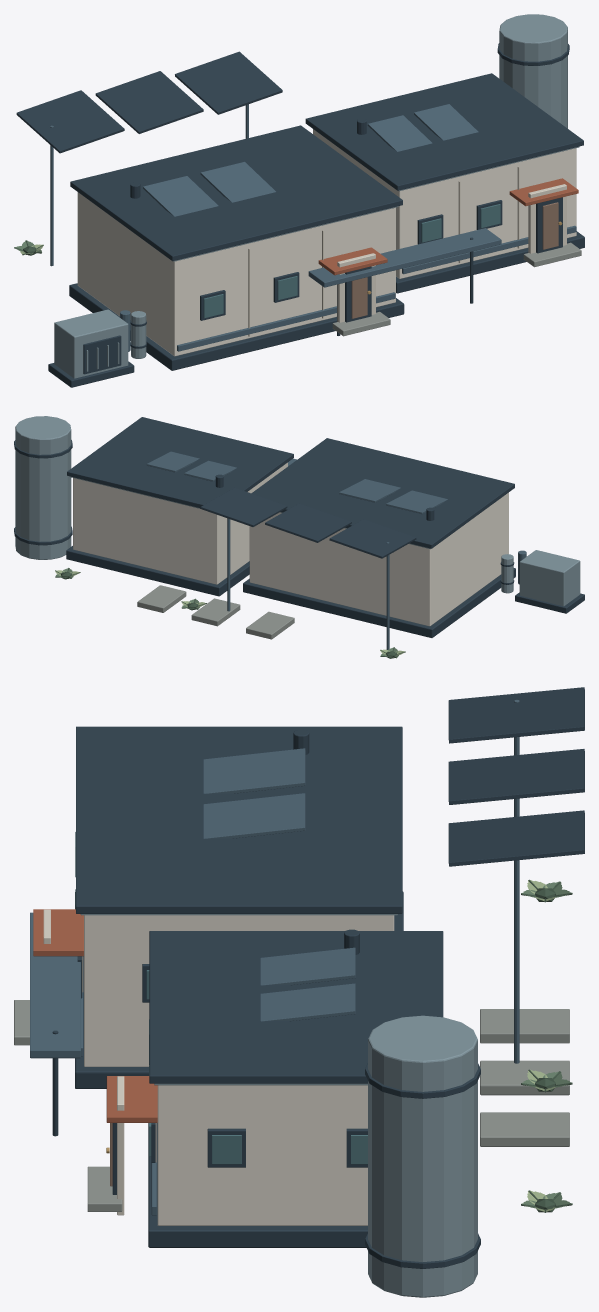
The model's file is homestead.glb.
3 views of the same model, one above another, from view 1: azimuth 30°, elevation 25°; view 2: azimuth 150°, elevation 25°; view 3: azimuth 270°, elevation 25° (orthographic). The views are drawn at different scales.
Parts seen in each view (by area): view 1: building.homestead.t1; view 2: building.homestead.t1; view 3: building.homestead.t1.
Boxes of the visible parts, x1=… form: building.homestead.t1: x1=14, y1=14, x2=584, y2=387; building.homestead.t1: x1=14, y1=416, x2=584, y2=658; building.homestead.t1: x1=14, y1=687, x2=584, y2=1297.
Bounding box in the file's own units: 1.48 × 0.352 × 0.7691.
